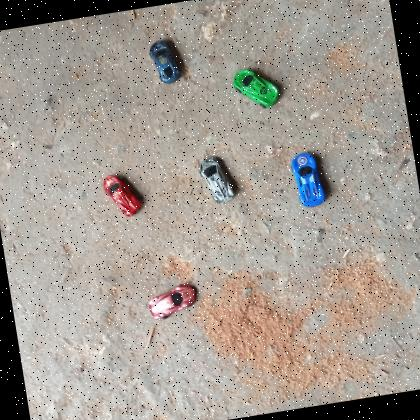Car: (231, 62, 284, 114), (288, 148, 330, 210), (101, 170, 145, 222), (196, 152, 236, 208), (144, 282, 200, 320), (146, 37, 182, 86)
